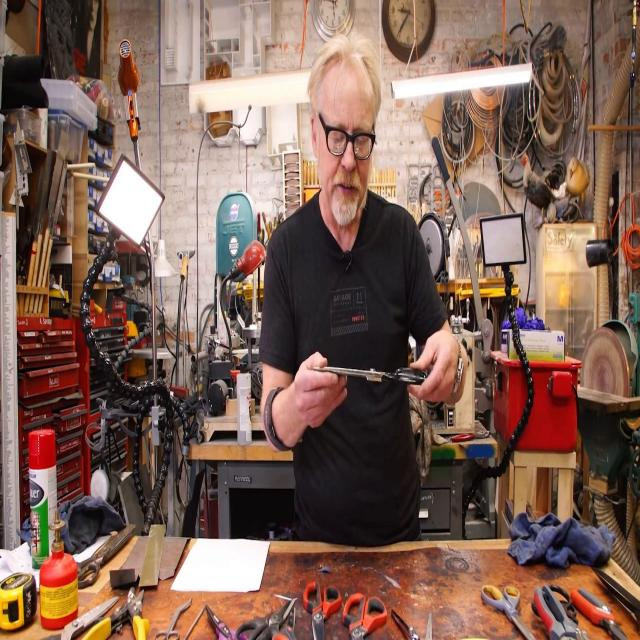scissor: (70, 526, 134, 586), (481, 584, 536, 640), (84, 590, 145, 640), (236, 598, 295, 640), (154, 598, 192, 640)
